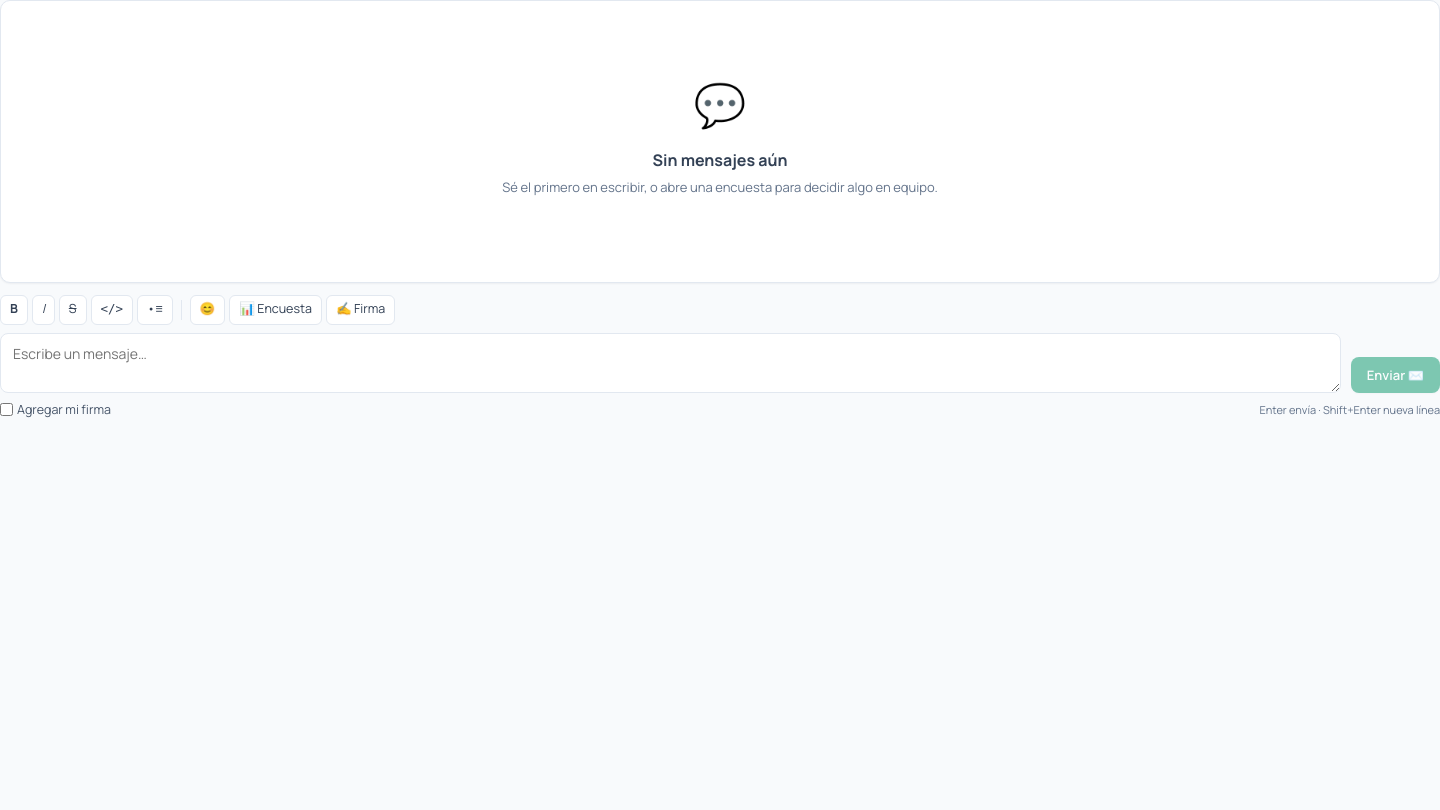
Test: ChatProyecto › should create a poll with its options
Click the button with aria-label "Crear encuesta" at (276, 310), box [229,294,322,324]
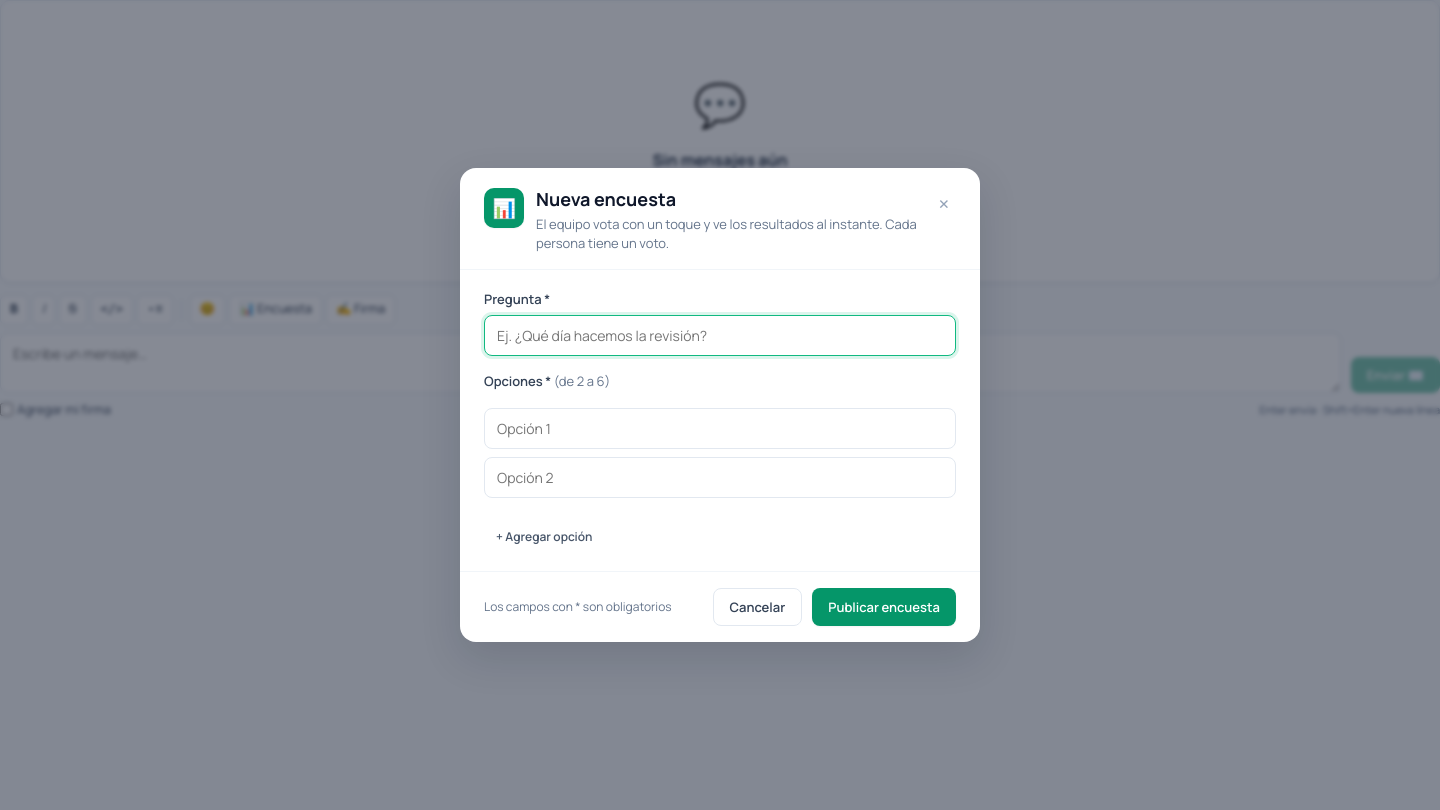
Type "¿Qué día?" into the field labelled "Pregunta *" at (720, 336), box [484,315,956,356]
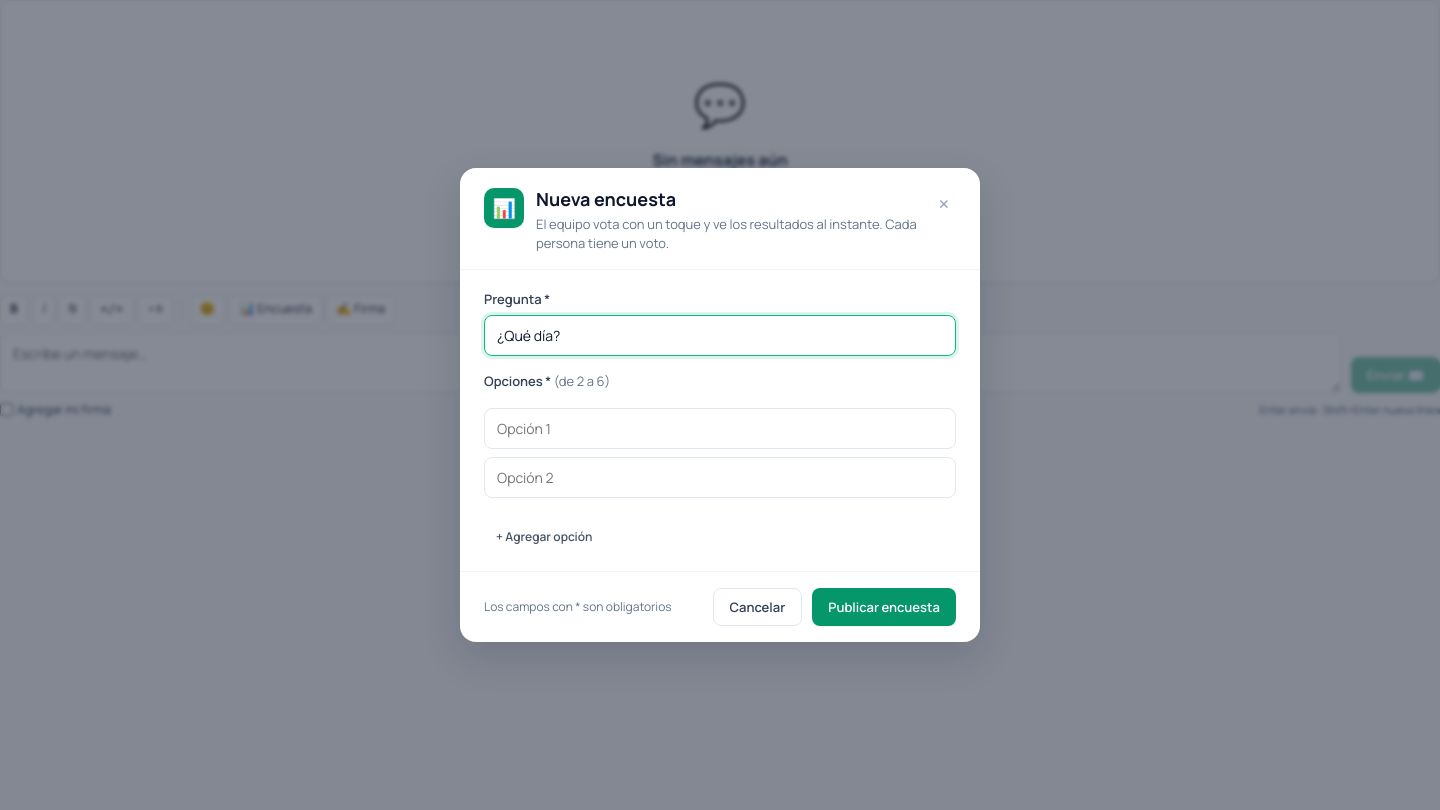
Type "Lunes" into the field labelled "Opción 1" at (720, 428), box [484,408,956,448]
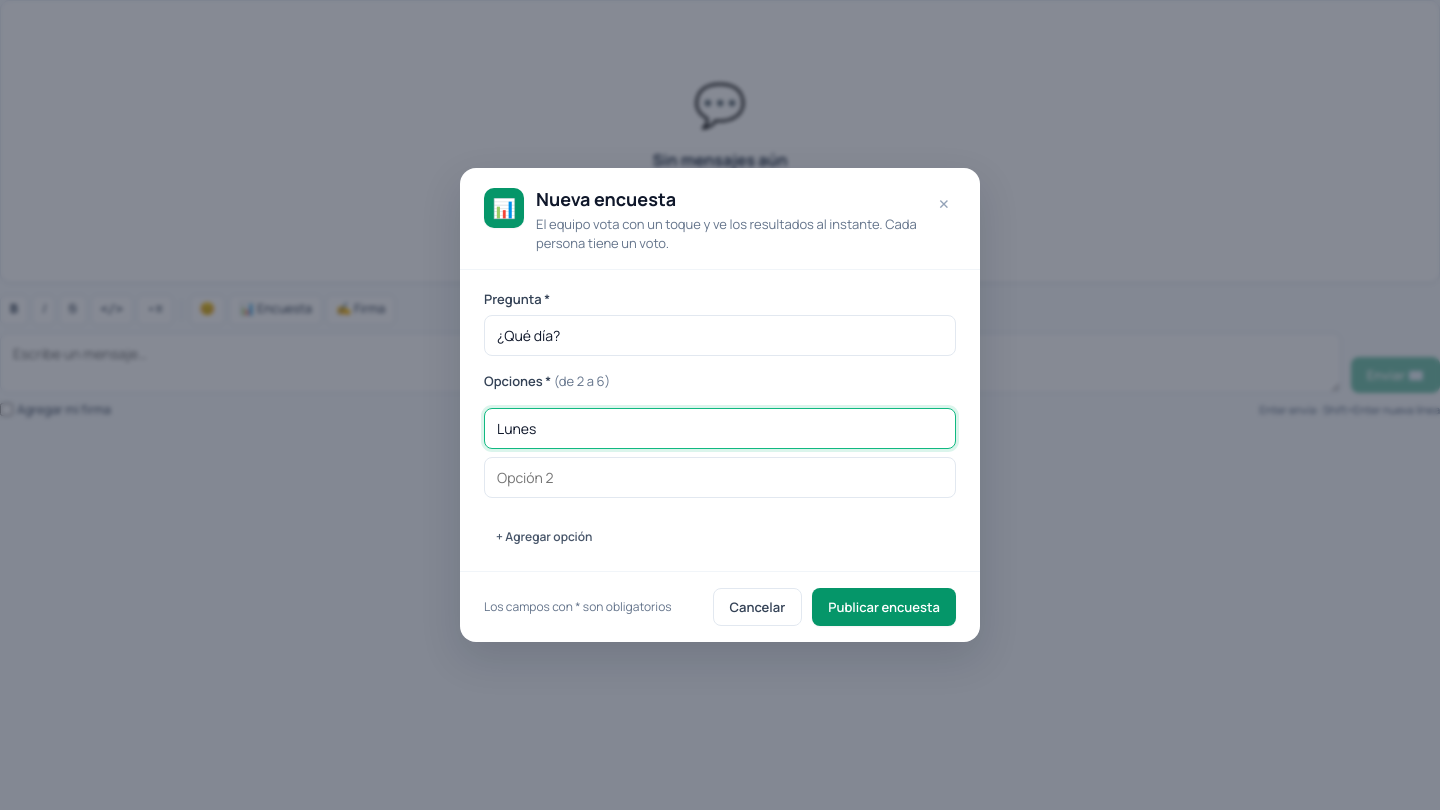
Type "Martes" into the field labelled "Opción 2" at (720, 477), box [484,456,956,498]
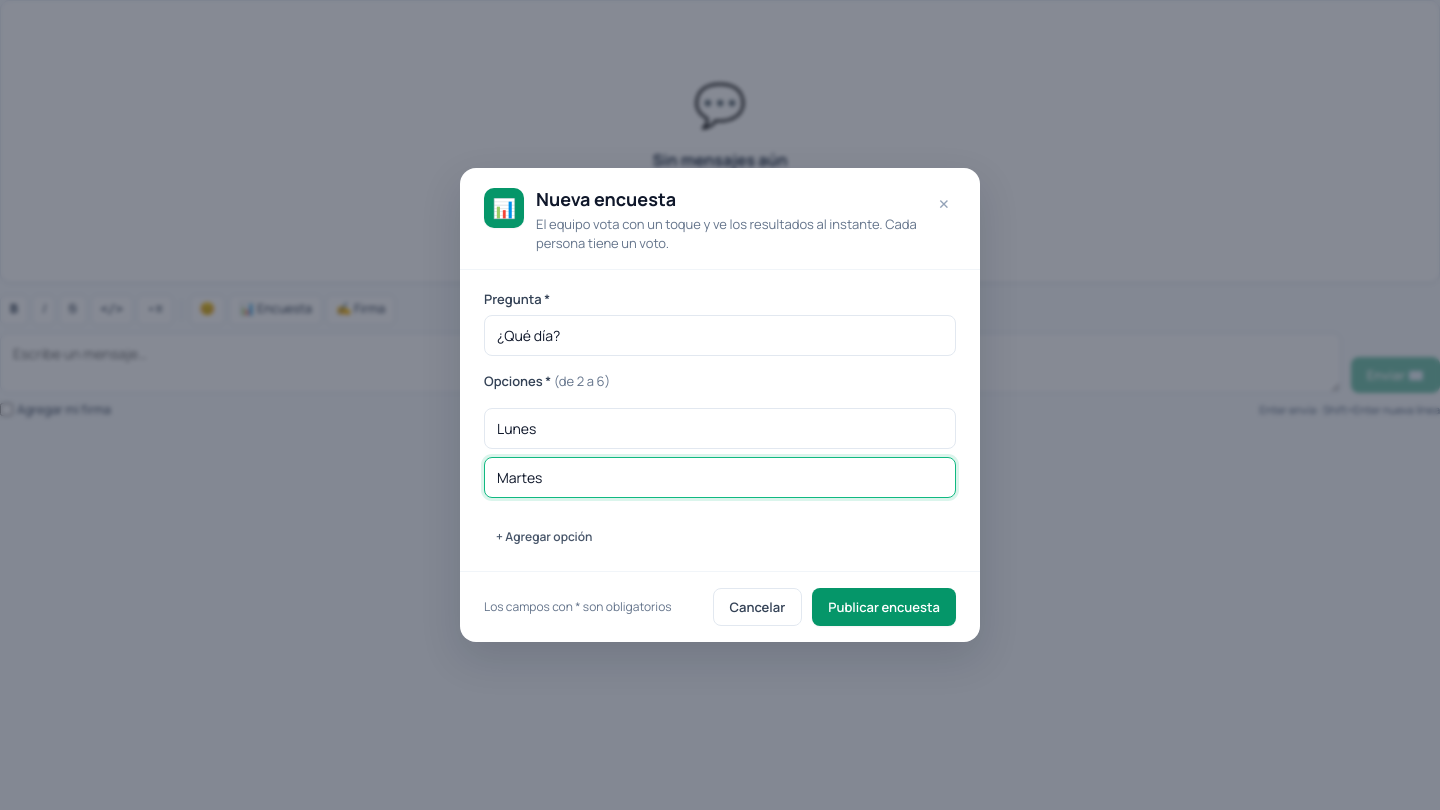
Click the button "Publicar encuesta" at (884, 606), box [812,588,956,626]
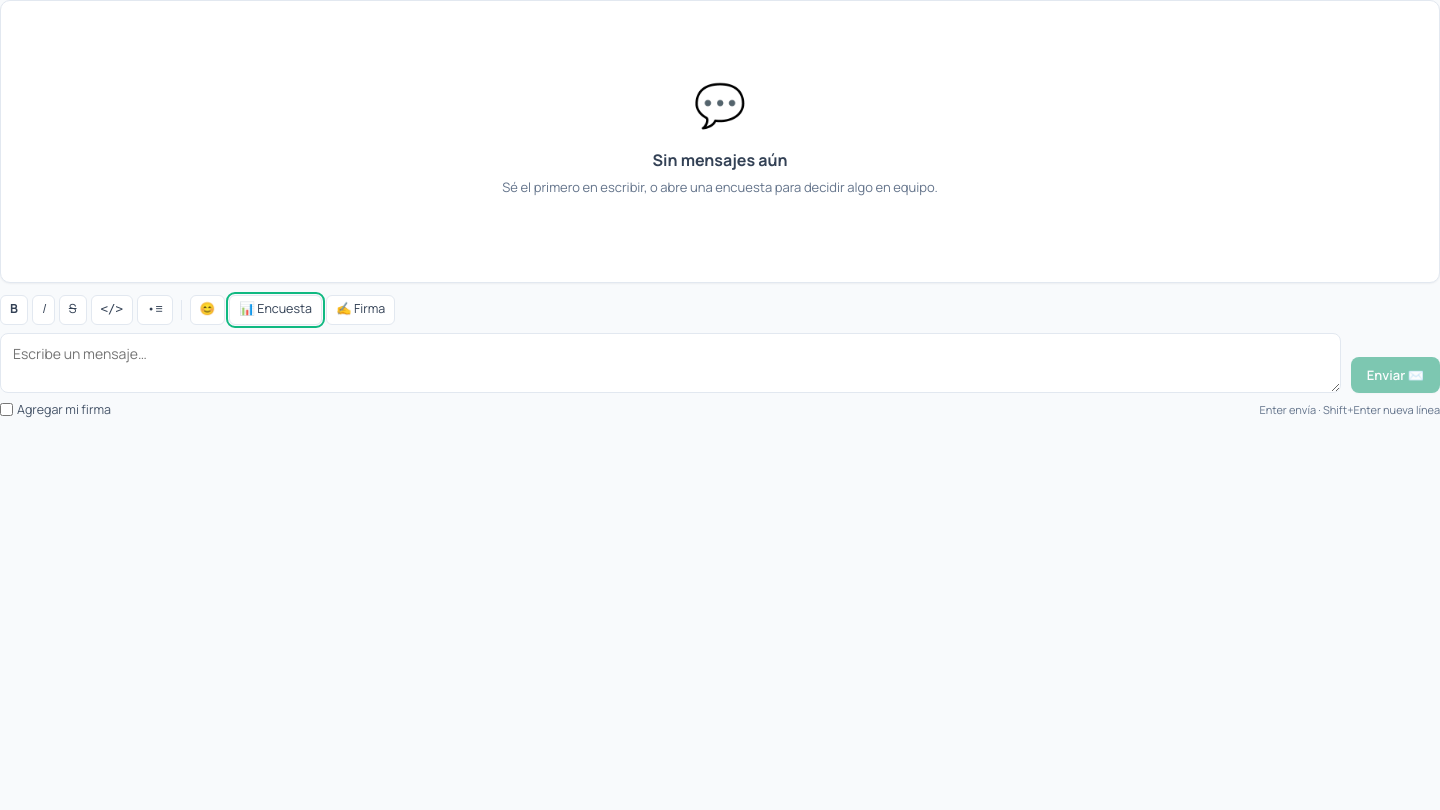
Now the dialog is gone
